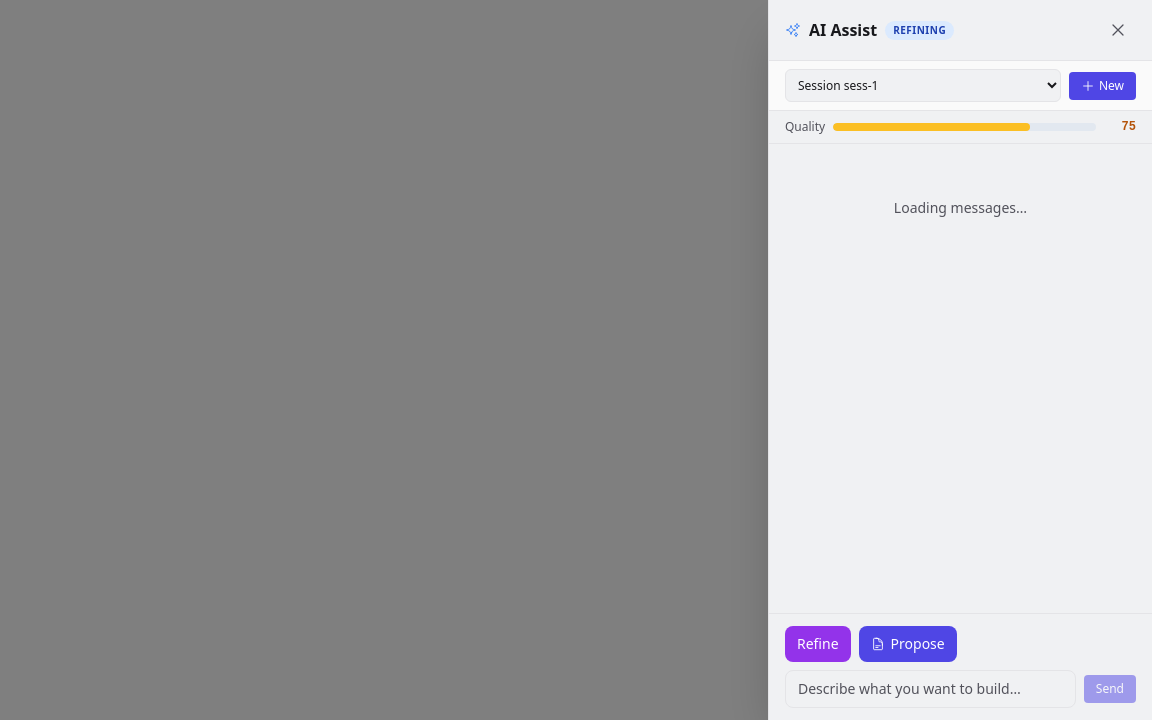
Test: CardChatDrawer › Refine button › disables refine button while refinement is in progress
Step 1. Click the button "Refine" → (818, 644), box [785,626,851,662]
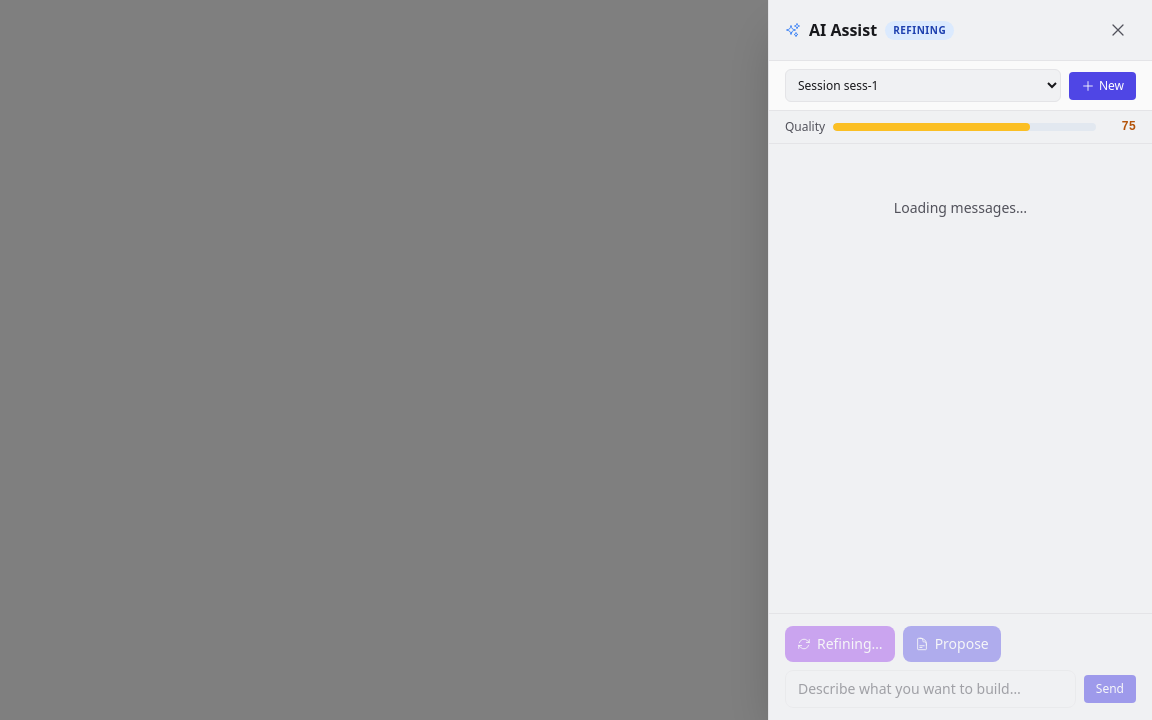
Expected: the button "Send" is disabled, [1084,675,1136,703]
Expected: the button "Refining…" is shown, [785,626,895,662]
Expected: the field with placeholder "Describe what you want to build…" is disabled, [785,670,1076,708]
